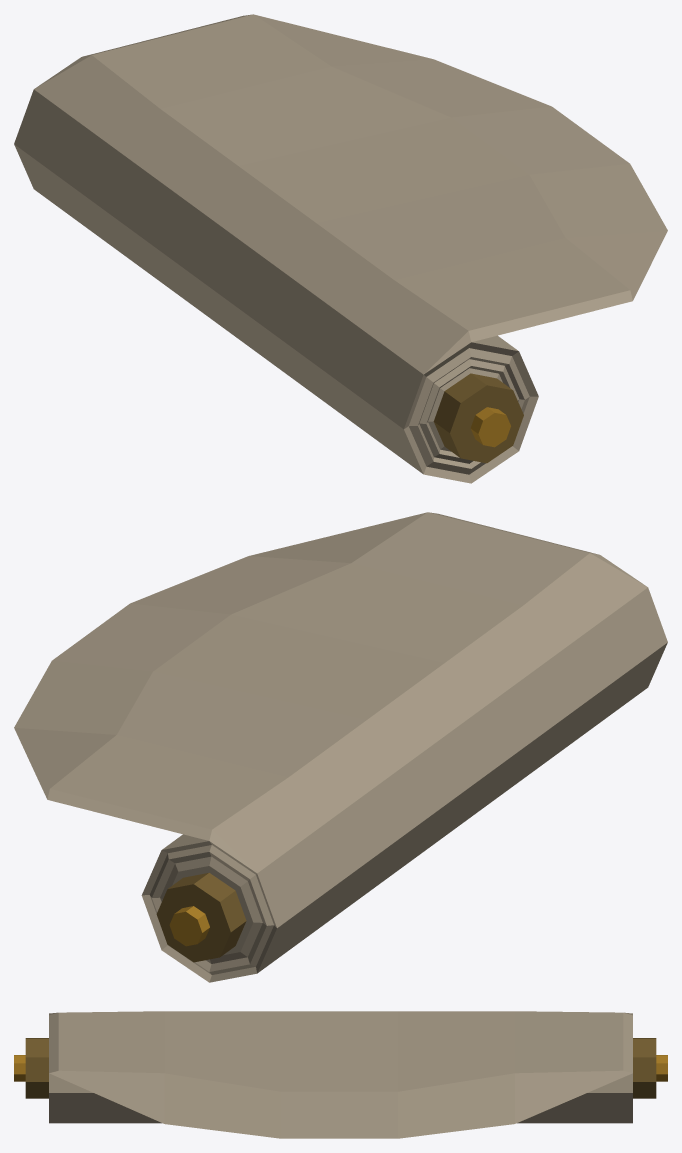
File: Tela.fbx
The picture shows the model from 3 angles, top to bottom: view 1: azimuth 30°, elevation 25°; view 2: azimuth 150°, elevation 25°; view 3: azimuth 270°, elevation 25°; orthographic projection. The views are drawn at different scales.
Parts seen in each view (by area): view 1: Cylinder; view 2: Cylinder; view 3: Cylinder.
Part boxes in pixels (x1,y1,x2,y2): Cylinder: (14,14,667,483); Cylinder: (14,512,667,982); Cylinder: (14,1011,667,1138).
Bounding box in the file's own units: 113 × 42.12 × 225.
